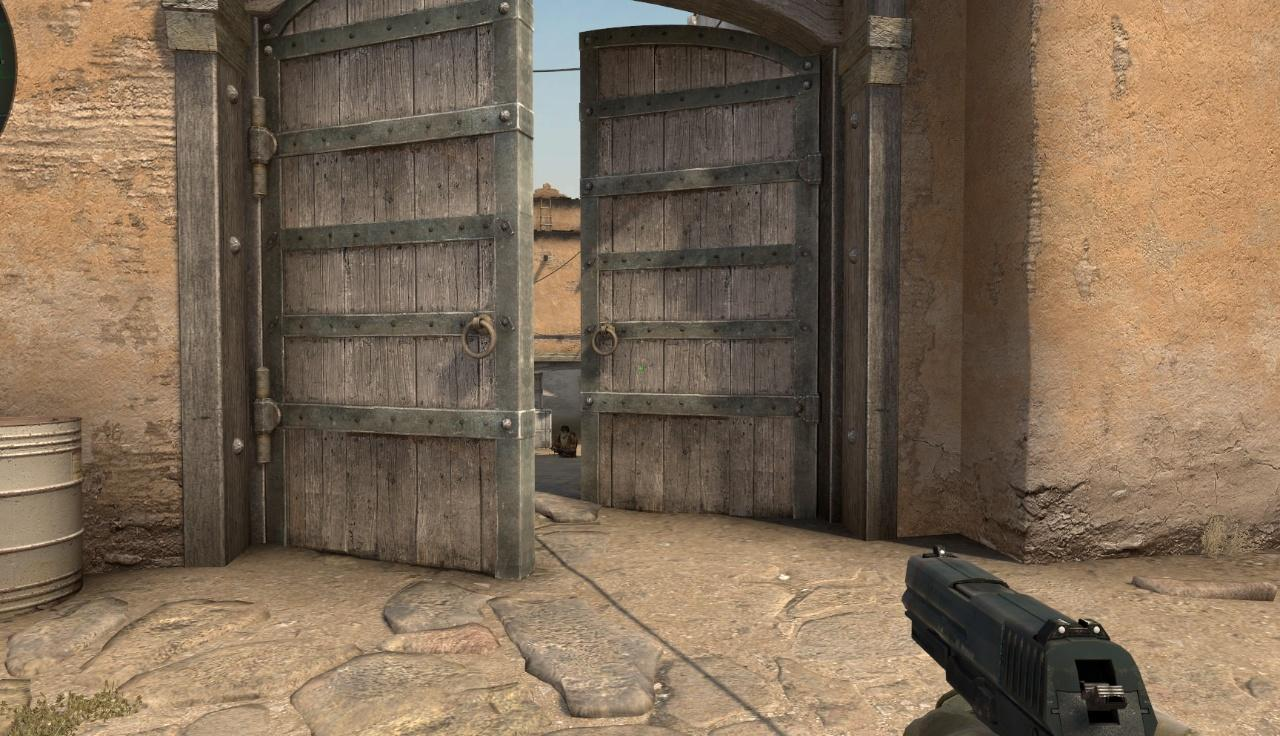pistol: (904, 549, 1155, 736)
tt: (553, 425, 577, 458)
tthead: (560, 425, 570, 439)
